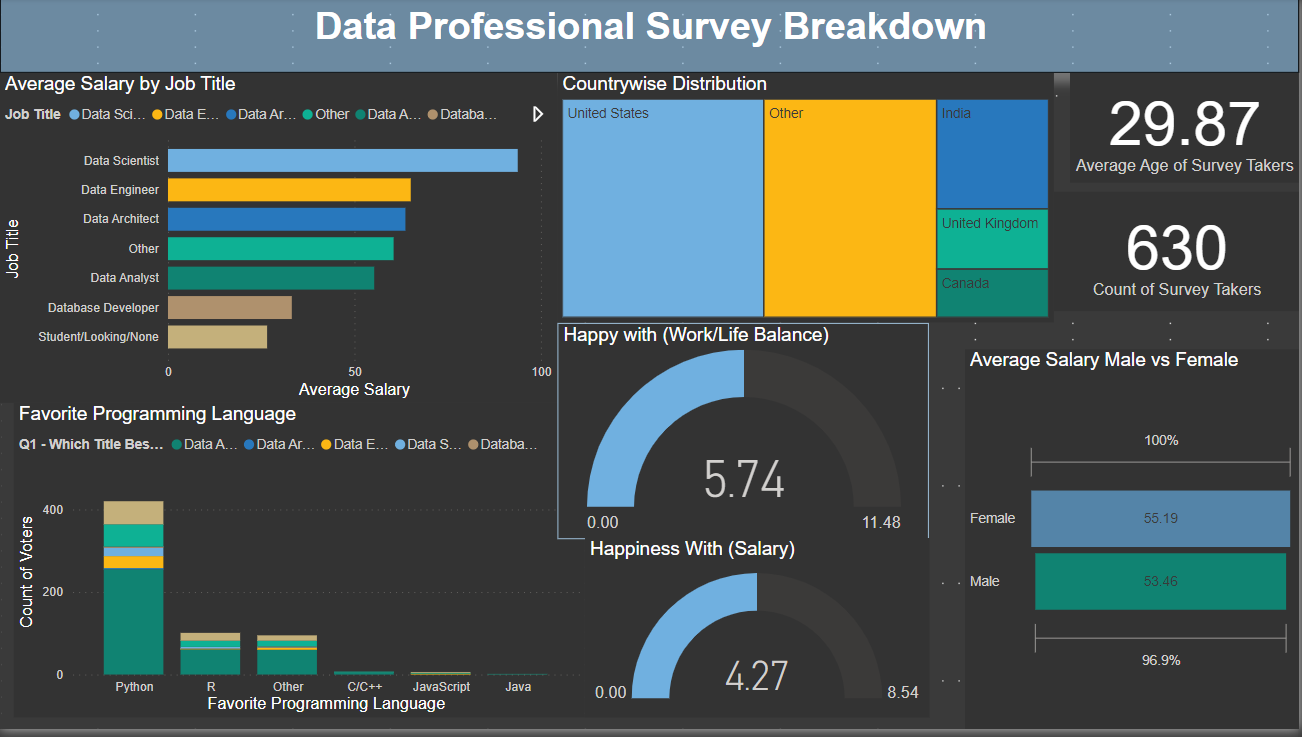

This screenshot's page, from the dashboard's own definition file:
{"tool":"powerbi","page":{"name":"Page 1","canvas":[1280,720],"ordinal":0},"visuals":[{"type":"textbox","box":[0,0,1280,73.8],"z":0},{"type":"card","fields":{"Values":["CountNonNull(Data Professional Survey.Unique ID)"]},"box":[1037.5,191.1,243,117.4],"z":1},{"type":"card","fields":{"Values":["Avg(Data Professional Survey.Q10 - Current Age)"]},"box":[1053.9,73.7,226.6,107.9],"z":2},{"type":"barChart","title":"Average Salary by Job Title","fields":{"Category":["Data Professional Survey.Q1 - Which Title Best Fits your Current Role?.1"],"Y":["Avg(Data Professional Survey.Average Salary)"],"Series":["Data Professional Survey.Q1 - Which Title Best Fits your Current Role?.1"]},"box":[0,73.7,548.8,324.9],"z":3},{"type":"columnChart","title":"Favorite Programming Language","fields":{"Category":["Data Professional Survey.Q5 - Favorite Programming Language.1"],"Y":["CountNonNull(Data Professional Survey.Unique ID)"],"Series":["Data Professional Survey.Q1 - Which Title Best Fits your Current Role?.1"]},"box":[13.7,398.6,562.5,309.9],"z":4},{"type":"treemap","title":"Countrywise Distribution","fields":{"Group":["Data Professional Survey.Q11 - Which Country do you live in?.1"],"Values":["CountNonNull(Data Professional Survey.Q11 - Which Country do you live in?.1)"]},"box":[548.8,73.7,488.7,245.7],"z":5},{"type":"gauge","title":"Happy with (Work/Life Balance)","fields":{"Y":["Avg(Data Professional Survey.Q6 - How Happy are you in your Current Position with the following? (Work/Life Balance))"]},"box":[548.8,319.5,365.9,213],"z":6},{"type":"gauge","title":" Happiness With (Salary)","fields":{"Y":["Avg(Data Professional Survey.Q6 - How Happy are you in your Current Position with the following? (Salary))"]},"box":[576,532,339,177],"z":7},{"type":"funnel","title":"Average Salary Male vs Female","fields":{"Category":["Data Professional Survey.Q9 - Male/Female?"],"Y":["Avg(Data Professional Survey.Average Salary)"]},"box":[950.2,345.4,330.4,374.1],"z":8}]}

Visuals, with their boxes in screenshot pixels (x1, y1, x2, y2), scaled from the page's 1280x720 canvas onto the 1302x737 screenshot:
textbox: region(0, 0, 1301, 76)
card - CountNonNull(Data Professional Survey.Unique ID): region(1055, 196, 1301, 316)
card - Avg(Data Professional Survey.Q10 - Current Age): region(1072, 75, 1301, 186)
"Average Salary by Job Title" barChart: region(0, 75, 558, 408)
"Favorite Programming Language" columnChart: region(14, 408, 586, 725)
"Countrywise Distribution" treemap: region(558, 75, 1055, 327)
"Happy with (Work/Life Balance)" gauge: region(558, 327, 930, 545)
" Happiness With (Salary)" gauge: region(586, 545, 931, 726)
"Average Salary Male vs Female" funnel: region(967, 354, 1301, 736)
